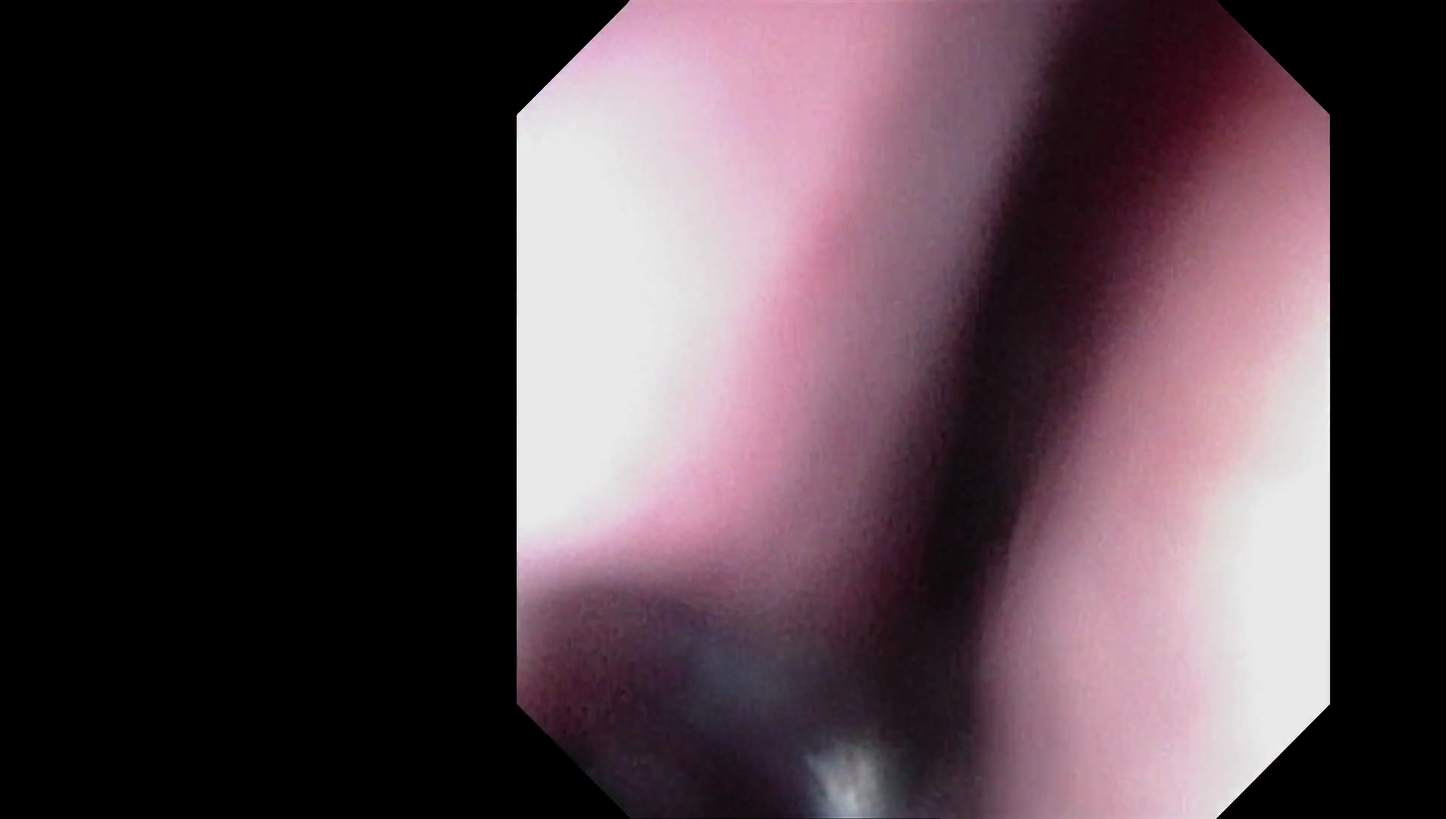close_wall: (524, 110, 894, 549), (1096, 270, 1318, 712)
next: (895, 235, 1057, 572), (1008, 50, 1187, 342), (834, 480, 1001, 781)
